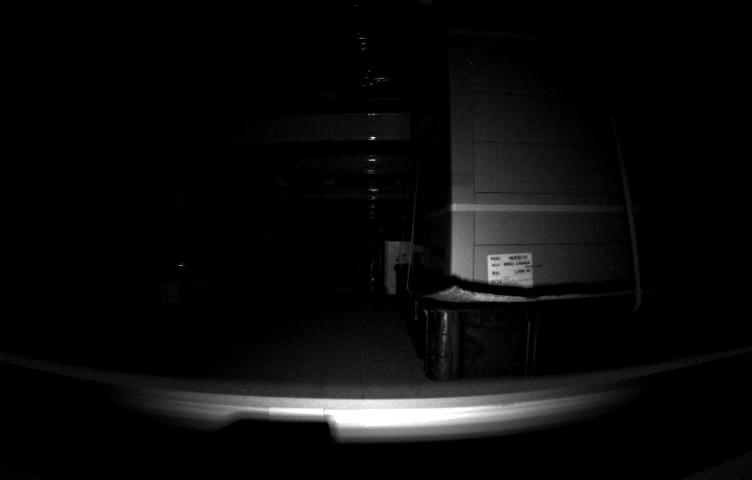True Barcode: (485, 251, 532, 293)
